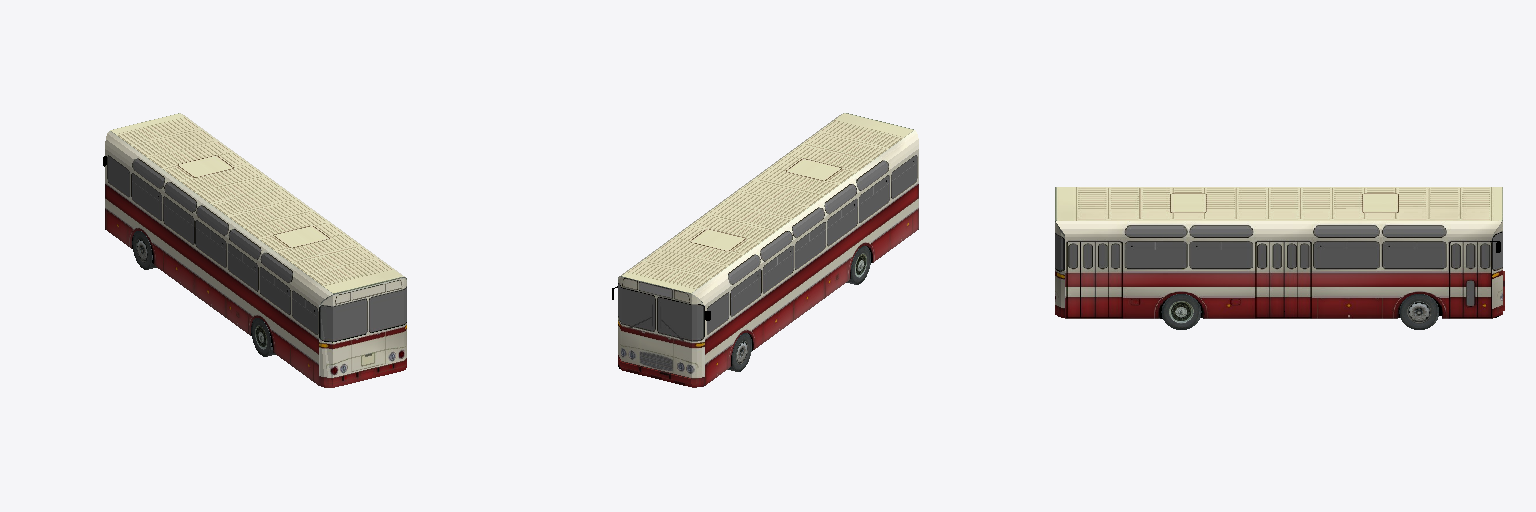
The picture shows the model from 3 angles: view 1: azimuth 30°, elevation 25°; view 2: azimuth 150°, elevation 25°; view 3: azimuth 270°, elevation 25°; orthographic projection.
Visible parts, largest first — view 1: Box018, Cylinder004, Cylinder003; view 2: Box018, Cylinder004, Cylinder003; view 3: Box018, Cylinder002, Cylinder005.
Boxes of the visible parts, x1,y1,x2,y2 form: Box018: [103, 113, 406, 387]; Cylinder004: [251, 318, 275, 356]; Cylinder003: [132, 231, 156, 269]; Box018: [612, 113, 918, 387]; Cylinder004: [846, 246, 870, 284]; Cylinder003: [728, 333, 751, 371]; Box018: [1055, 187, 1504, 318]; Cylinder002: [1399, 294, 1438, 329]; Cylinder005: [1161, 294, 1201, 329].
Bounding box in the file's own units: 3.19 × 3.37 × 13.02.
Materials: 2 (2 with a texture image).